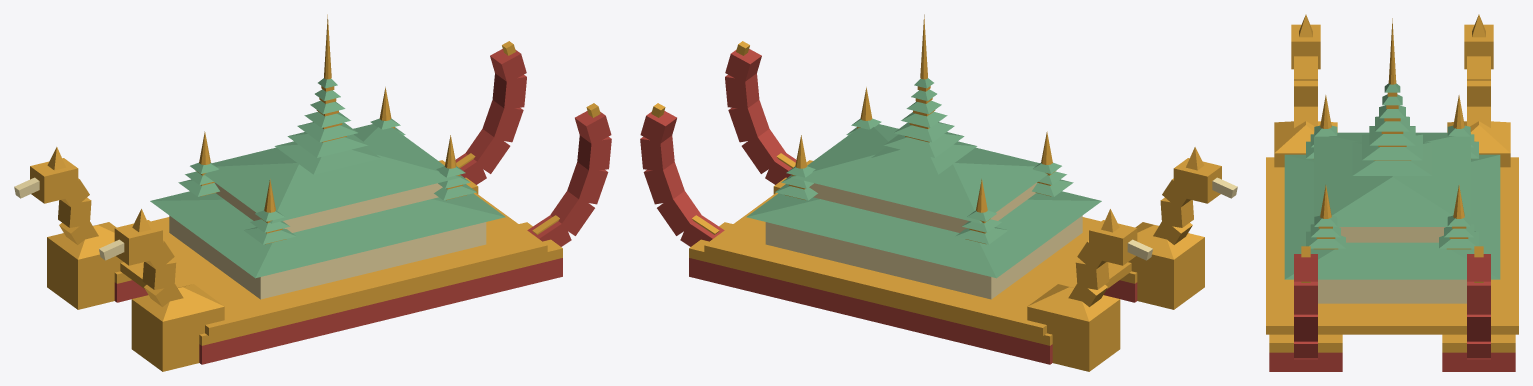
File: karaweik.glb
3 views of the same model, side by side, from view 1: azimuth 30°, elevation 25°; view 2: azimuth 150°, elevation 25°; view 3: azimuth 270°, elevation 25° (orthographic). The views are drawn at different scales.
Visible parts, largest first — view 1: part; view 2: part; view 3: part.
Boxes of the visible parts, left/top/right/bottom form: part: left=14, top=14, right=611, bottom=371; part: left=640, top=14, right=1237, bottom=371; part: left=1266, top=14, right=1518, bottom=371.
Bounding box in the file's own units: 89.44 × 44.24 × 38.
